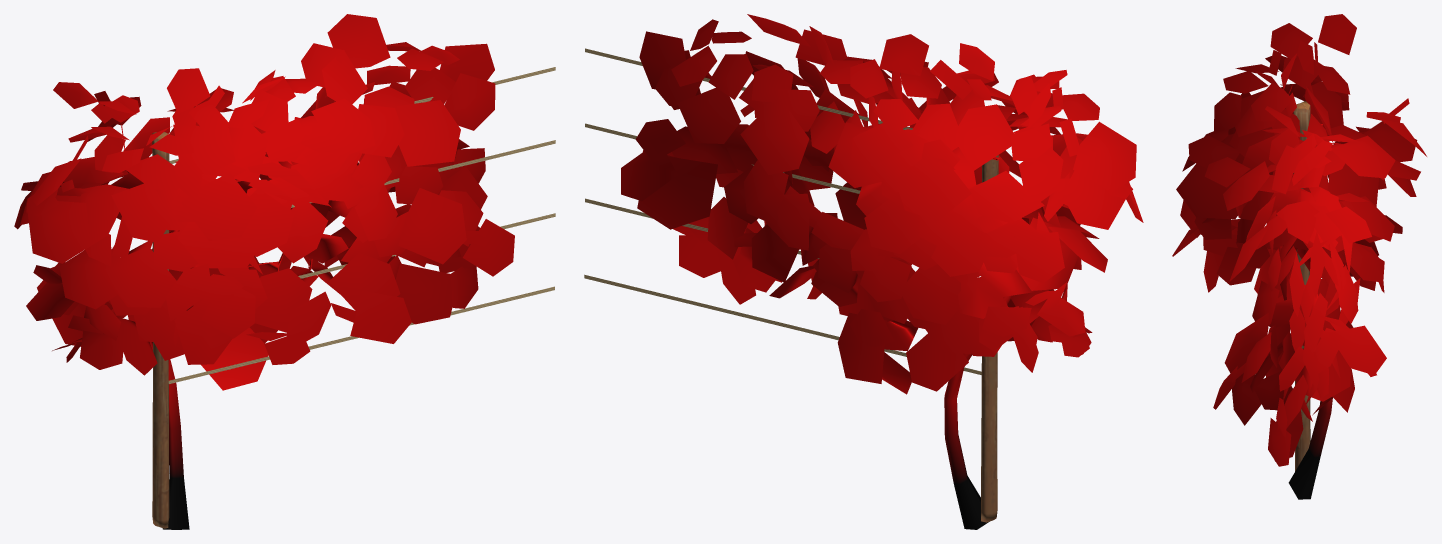
File: SM_Farm_GrapevineYellow_02.fbx
3 renders of one model, left to right at view 1: azimuth 30°, elevation 25°; view 2: azimuth 150°, elevation 25°; view 3: azimuth 270°, elevation 25°, orthographic. The views are drawn at different scales.
Parts seen in each view (by area): view 1: SM_Farm_GrapevineYellow_02_LOD0; view 2: SM_Farm_GrapevineYellow_02_LOD0; view 3: SM_Farm_GrapevineYellow_02_LOD0.
Boxes of the visible parts, left/top/right/bottom form: SM_Farm_GrapevineYellow_02_LOD0: left=14, top=14, right=555, bottom=529; SM_Farm_GrapevineYellow_02_LOD0: left=584, top=14, right=1143, bottom=529; SM_Farm_GrapevineYellow_02_LOD0: left=1172, top=14, right=1426, bottom=499.
Bounding box in the file's own units: 203 × 169 × 88.44.
